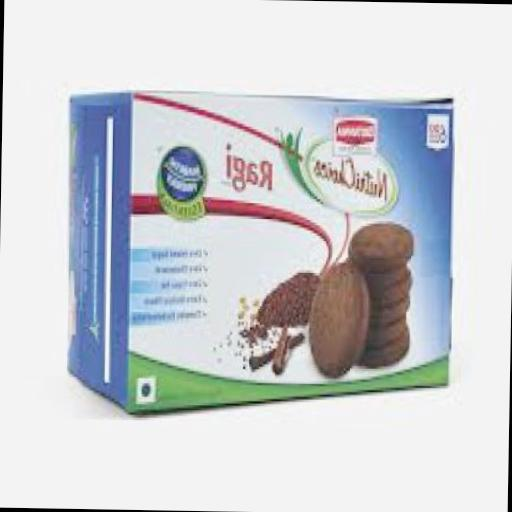cardboard: (66, 84, 458, 421)
